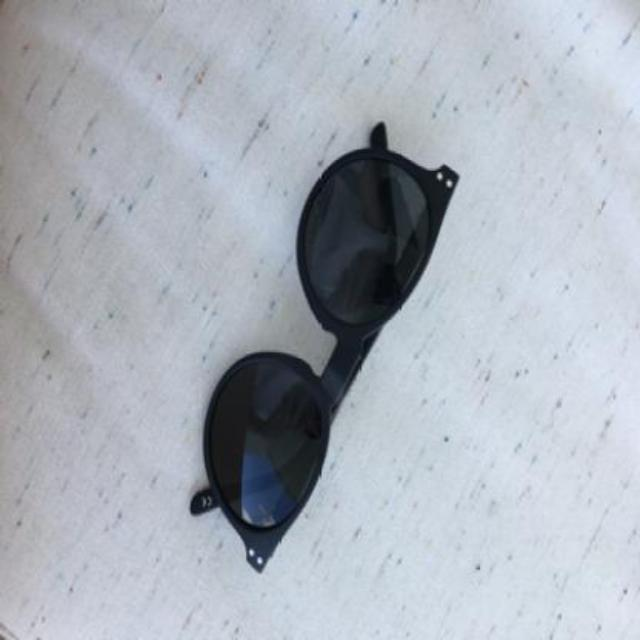glasses: (189, 119, 459, 571)
